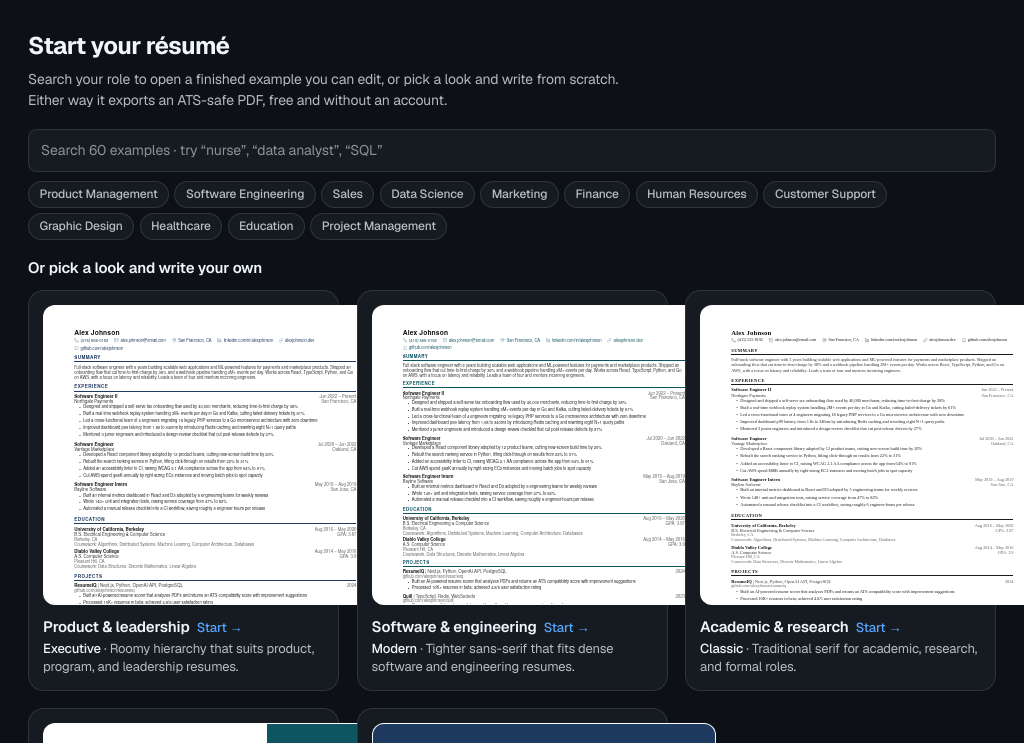
the cold open can find your role › typing a role surfaces matching examples
Type "nurse" into the search field with placeholder "Search 60 examples · try “nurse”, “data analyst”, “SQL”".
click(512, 150); type("nurse")  # box [28,129,996,172]
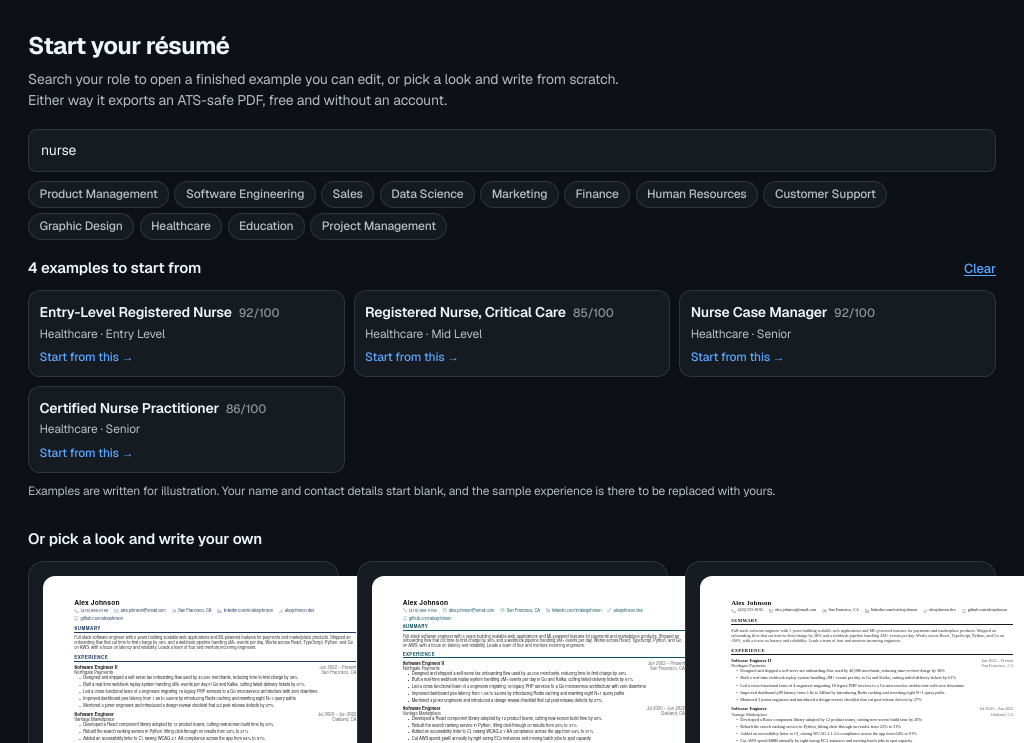
Expected: the button with aria-label "Start from the Entry-Level Registered Nurse example" is shown, [28,290,345,377]
Expected: the text "Entry-Level Registered Nurse" is shown, [40,302,232,323]
